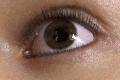eye: (43, 19, 78, 50)
